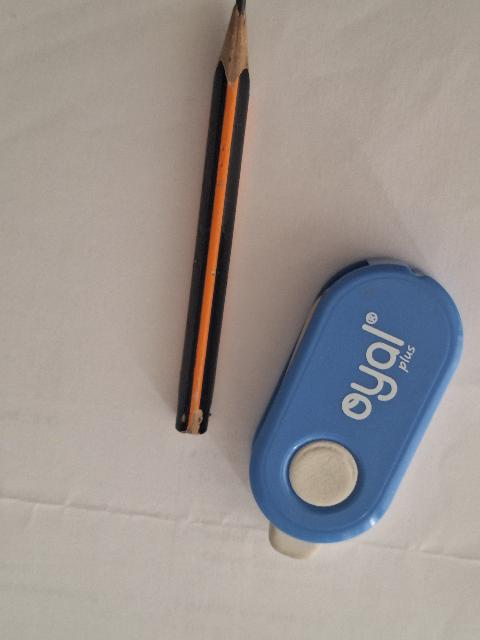writing_tool: (168, 0, 254, 435)
